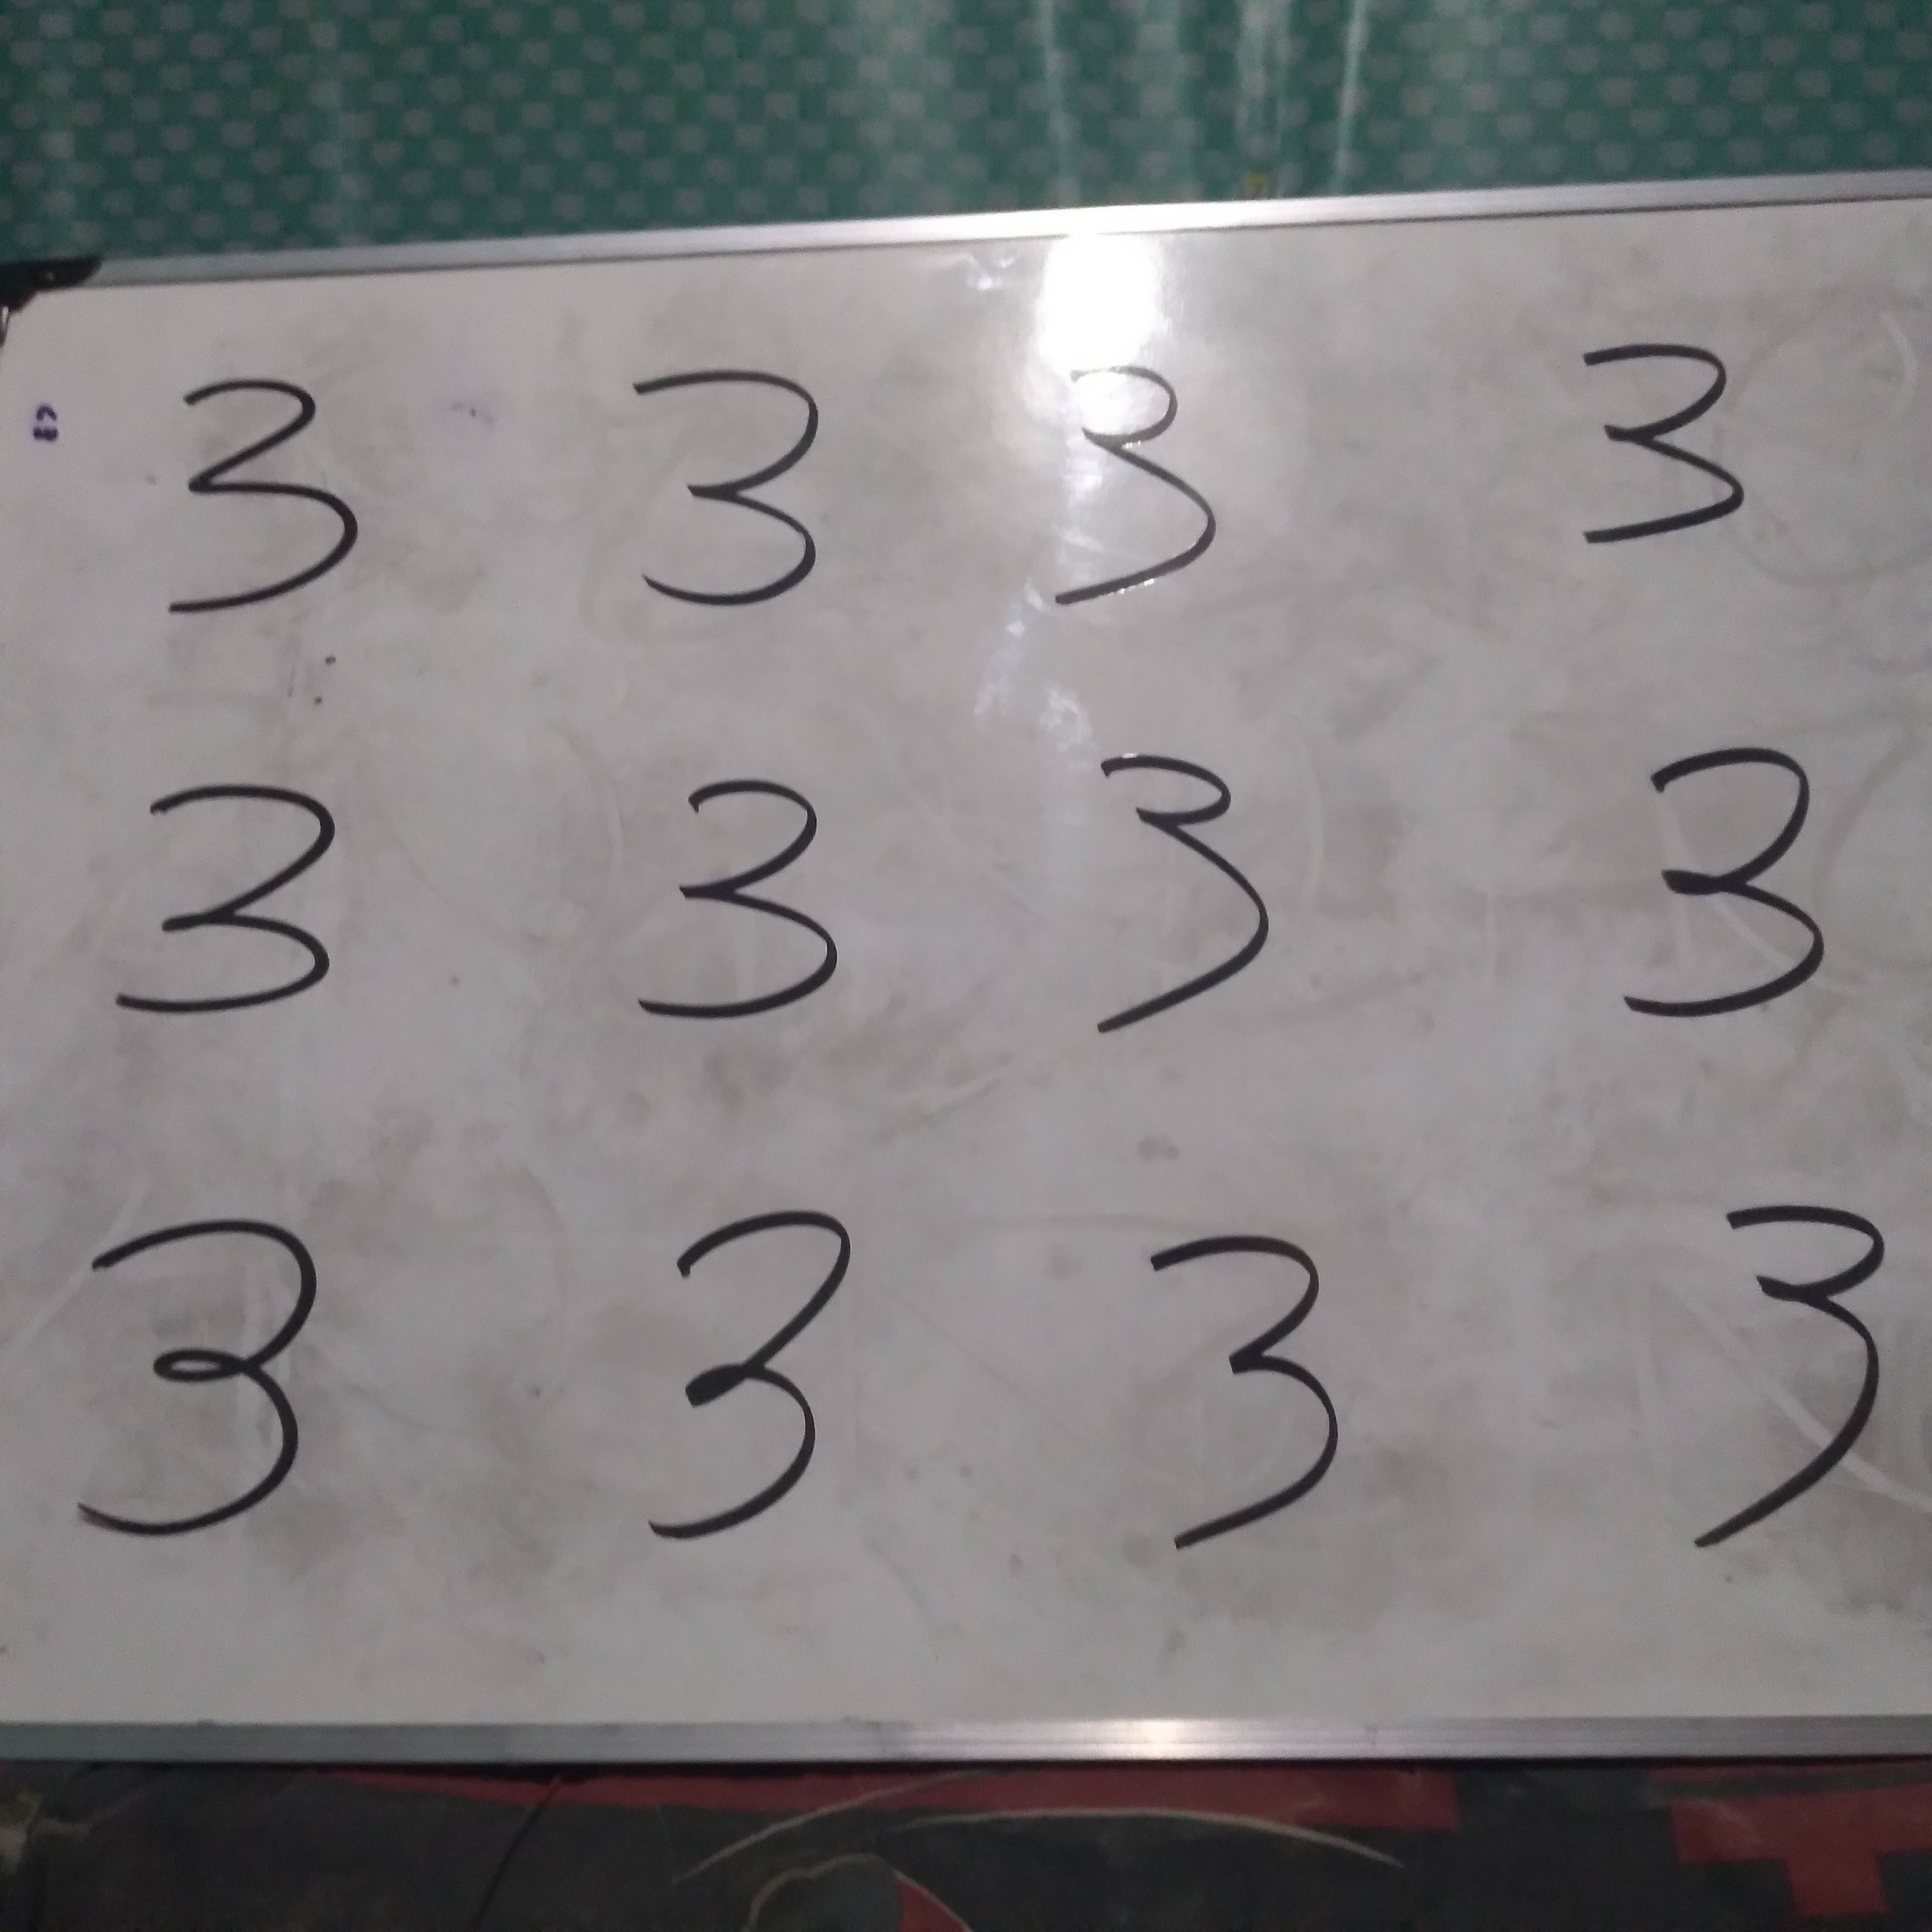num3: (589, 332, 872, 669), (1497, 277, 1780, 614), (1636, 1200, 1919, 1537), (631, 1207, 913, 1545), (58, 1202, 341, 1539), (1009, 740, 1292, 1077), (133, 348, 416, 685), (1603, 709, 1886, 1046), (1124, 1217, 1407, 1554), (99, 728, 382, 1065), (623, 737, 905, 1074), (1004, 340, 1287, 678)
